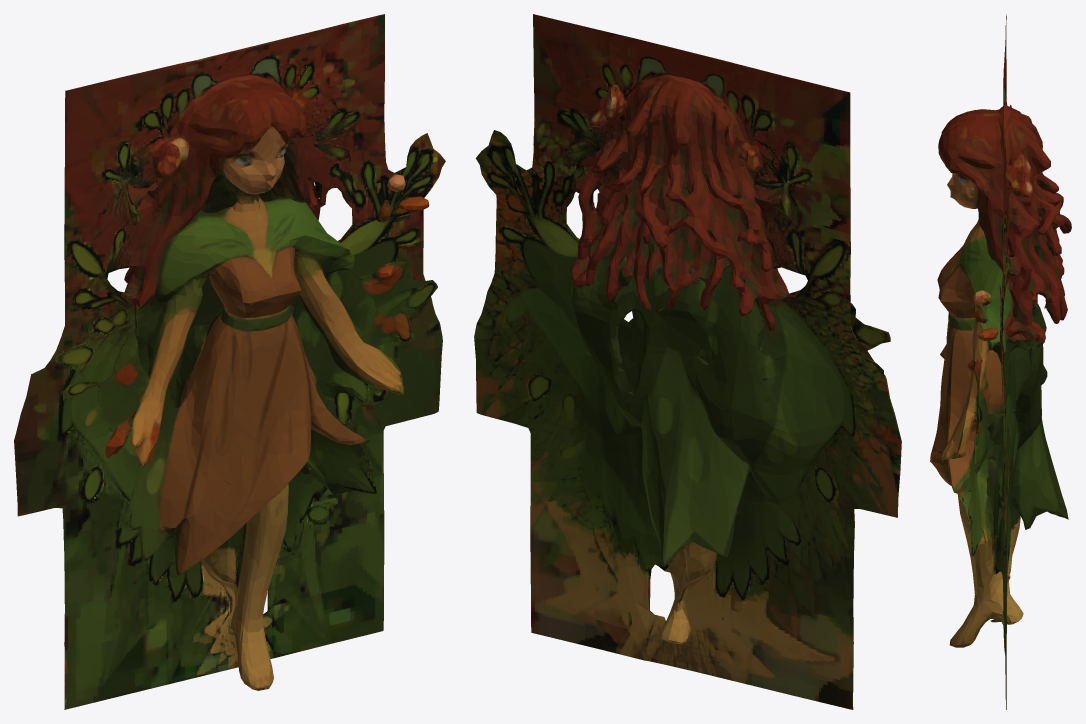
File: luminaNaturaleza.glb
3 renders of one model, left to right at view 1: azimuth 30°, elevation 25°; view 2: azimuth 150°, elevation 25°; view 3: azimuth 270°, elevation 25°, orthographic. The views are drawn at different scales.
Parts seen in each view (by area): view 1: world; view 2: world; view 3: world.
Part boxes in pixels (x1,y1,x2,y2): world: [14, 14, 445, 709]; world: [474, 14, 901, 709]; world: [930, 14, 1071, 709].
Bounding box in the file's own units: 0.7266 × 1 × 0.2312.
1 material, 1 textured.
